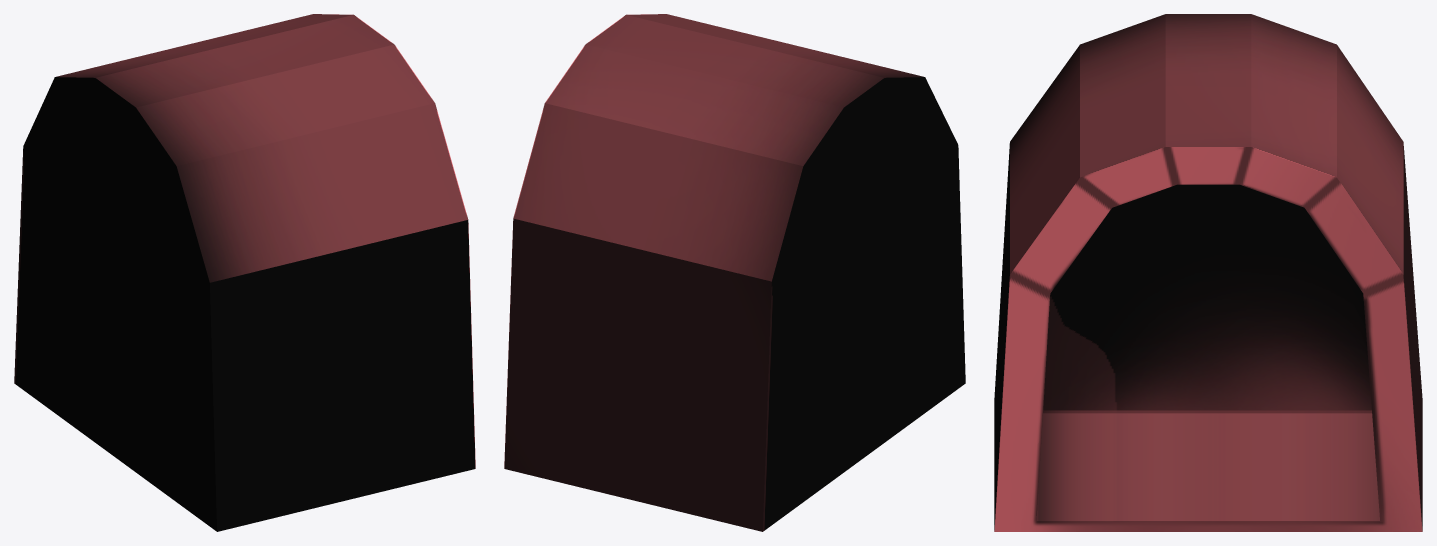
Rendered from RatHouse.fbx.
The picture shows the model from 3 angles, left to right: view 1: azimuth 30°, elevation 25°; view 2: azimuth 150°, elevation 25°; view 3: azimuth 270°, elevation 25°; orthographic projection. The views are drawn at different scales.
Visible parts, largest first — view 1: Cube; view 2: Cube; view 3: Cube.
Part boxes in pixels (bbox=[...]): Cube: bbox=[14, 14, 475, 531]; Cube: bbox=[504, 14, 965, 531]; Cube: bbox=[994, 14, 1422, 531].
Bounding box in the file's own units: 108 × 145 × 146.
